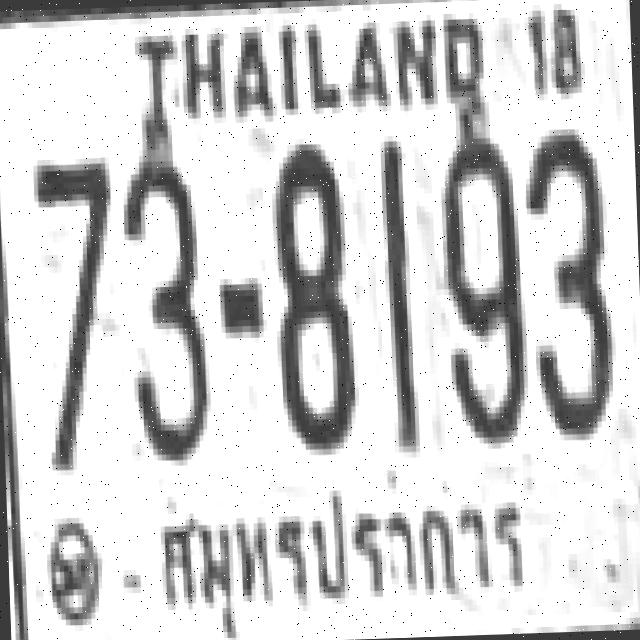1: (378, 138, 412, 408)
3: (519, 122, 610, 436), (117, 150, 208, 458)
7: (32, 157, 114, 446)
8: (269, 140, 352, 447)
9: (438, 134, 526, 441)
SamutPrakan: (139, 467, 539, 640)
